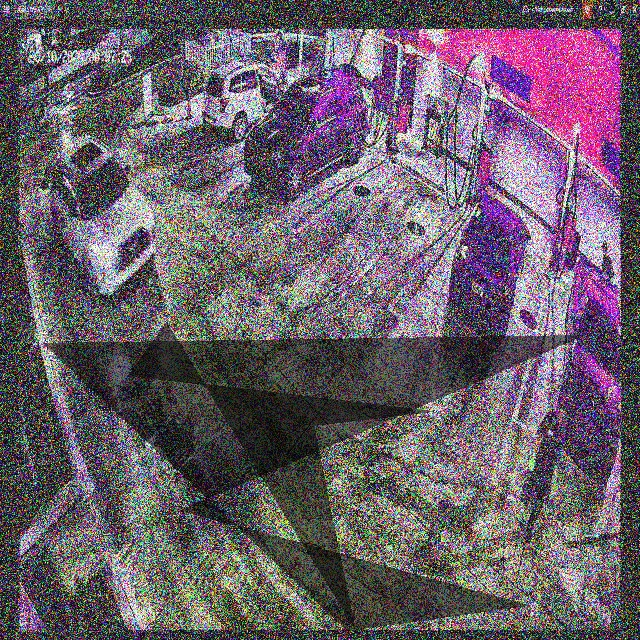Car: (51, 138, 157, 301), (244, 71, 368, 202), (449, 195, 530, 337)
